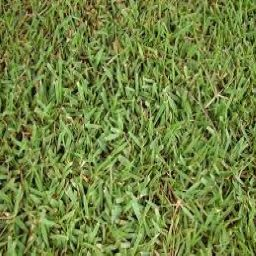grass: (2, 4, 250, 250)
